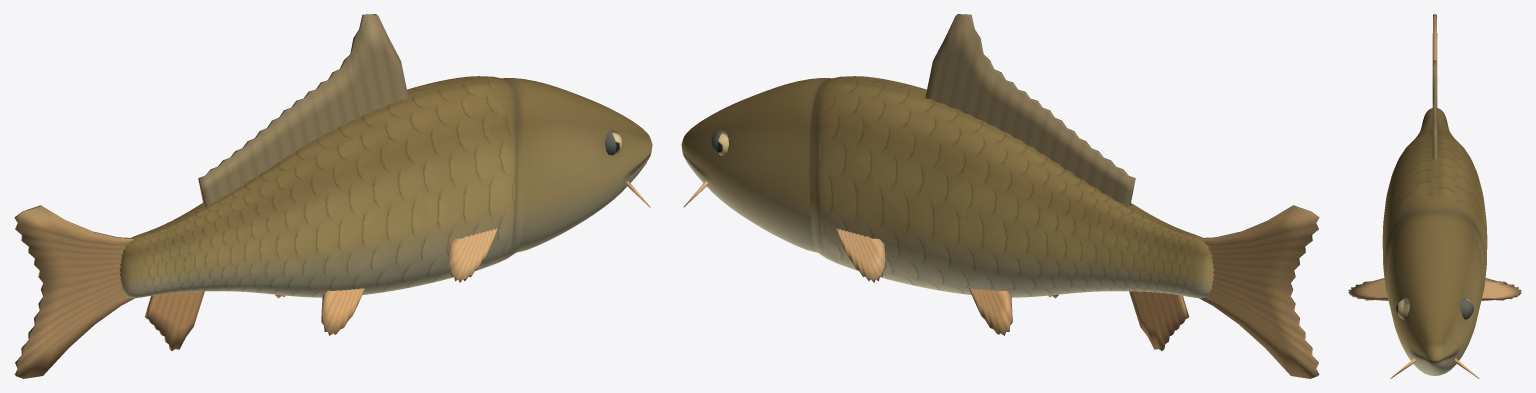
Rendered from fish_carp.fbx.
3 views of the same model, side by side, from view 1: azimuth 30°, elevation 25°; view 2: azimuth 150°, elevation 25°; view 3: azimuth 270°, elevation 25° (orthographic). The views are drawn at different scales.
Parts seen in each view (by area): view 1: fish_carp; view 2: fish_carp; view 3: fish_carp.
Boxes of the visible parts, x1,y1,x2,y2 form: fish_carp: [14, 14, 652, 378]; fish_carp: [681, 14, 1319, 378]; fish_carp: [1348, 14, 1521, 378].
Bounding box in the file's own units: 49.79 × 21.52 × 13.44.
Materials: 1 (1 with a texture image).
